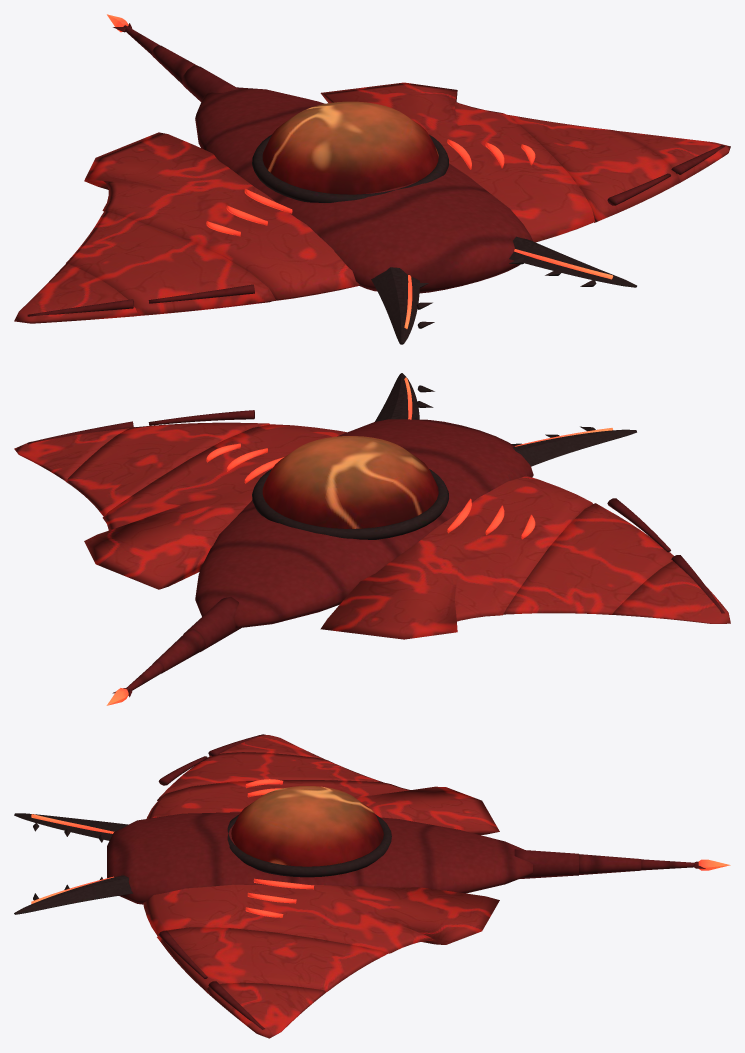
The model's file is goombah.glb.
The picture shows the model from 3 angles, top to bottom: view 1: azimuth 30°, elevation 25°; view 2: azimuth 150°, elevation 25°; view 3: azimuth 270°, elevation 25°; orthographic projection. The views are drawn at different scales.
Parts seen in each view (by area): view 1: Goombah, wing_r1, wing_l1, dome, wing_r2, wing_l2, wing_r3, prong_r, wing_l3, prong_l, tail1, tail2 (+1 smaller); view 2: Goombah, wing_r1, wing_l1, dome, wing_r2, wing_l2, wing_r3, wing_l3, prong_r, prong_l, tail1, tail2 (+1 smaller); view 3: Goombah, wing_l1, wing_l2, dome, wing_r1, wing_r2, wing_l3, prong_l, prong_r, tail1, wing_r3, tail2 (+1 smaller).
Part boxes in pixels (x1,y1,x2,y2): Goombah: (195, 87, 532, 293); wing_r1: (84, 132, 359, 301); wing_l1: (320, 82, 594, 242); dome: (262, 101, 438, 194); wing_r2: (66, 211, 275, 315); wing_l2: (507, 114, 679, 222); wing_r3: (14, 263, 138, 323); prong_r: (371, 267, 434, 344); wing_l3: (616, 130, 730, 183); prong_l: (509, 236, 636, 287); tail1: (182, 65, 238, 101); tail2: (152, 45, 198, 84); Goombah: (195, 419, 533, 628); wing_r1: (320, 475, 592, 639); wing_l1: (84, 424, 346, 589); dome: (262, 436, 438, 528); wing_r2: (503, 498, 673, 614); wing_l2: (66, 410, 270, 516); wing_r3: (612, 555, 730, 623); wing_l3: (14, 421, 135, 481); prong_r: (511, 426, 636, 466); prong_l: (375, 373, 434, 421); tail1: (183, 597, 240, 651); tail2: (153, 629, 205, 673); Goombah: (107, 812, 532, 904); wing_l1: (143, 878, 499, 953); wing_l2: (157, 927, 388, 991); dome: (231, 786, 383, 866); wing_r1: (146, 779, 499, 835); wing_r2: (157, 752, 382, 800); wing_l3: (205, 981, 327, 1038); prong_l: (14, 875, 132, 914); prong_r: (14, 813, 128, 842); tail1: (514, 849, 578, 878); wing_r3: (208, 734, 323, 758); tail2: (579, 854, 641, 874).
Bounding box in the file's own units: 1.56 × 0.2134 × 1.56.
5 materials, 5 textured.
